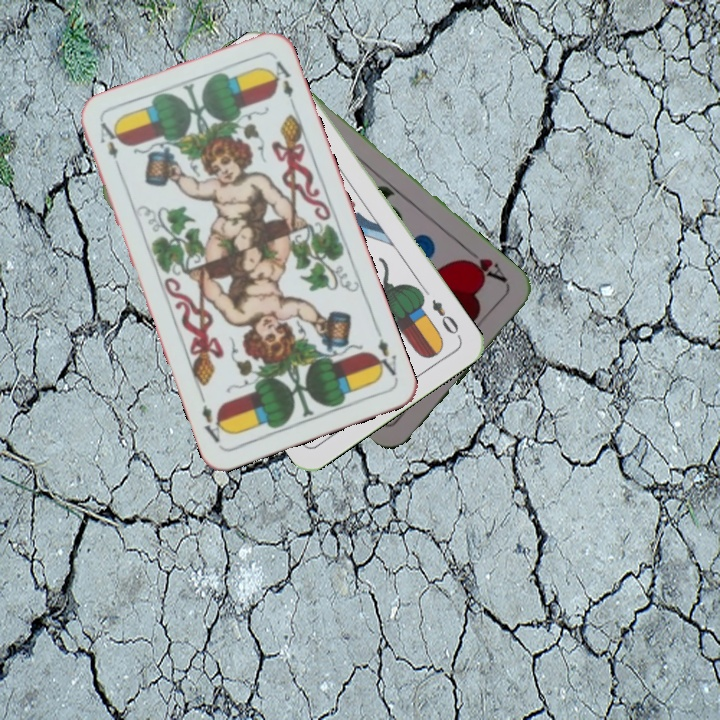EA: (369, 325, 399, 380), (95, 118, 124, 174)
EO: (427, 295, 464, 341)
HA: (459, 244, 511, 288)
